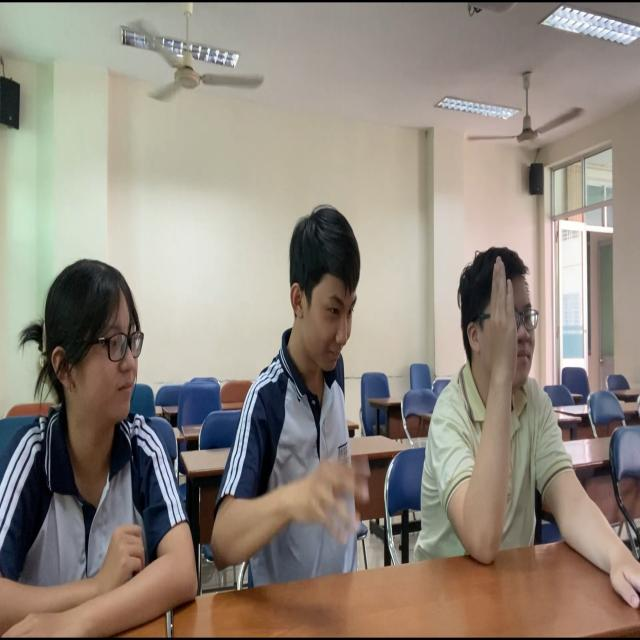raise_hand: (417, 238, 601, 577)
